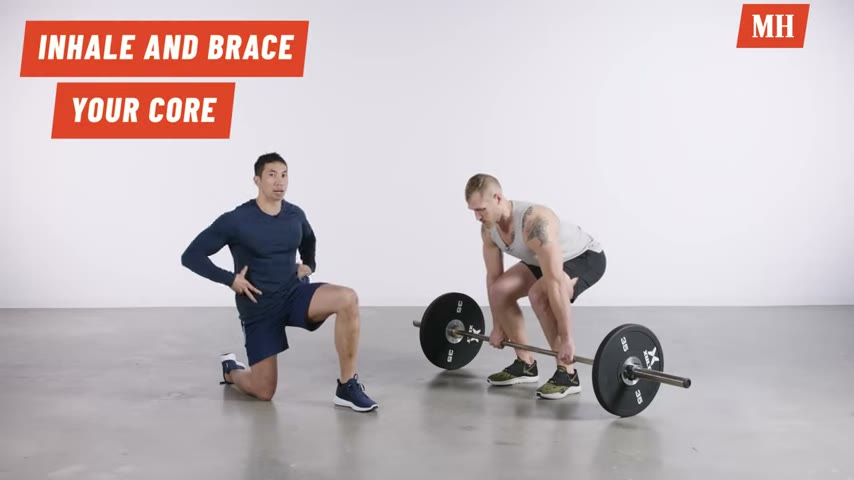barbell_plate_side: (411, 291, 485, 420), (617, 316, 696, 426)
